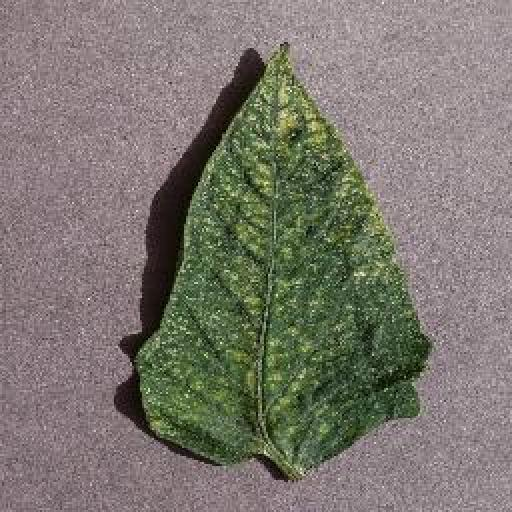disease_tomato: (136, 40, 430, 466)
